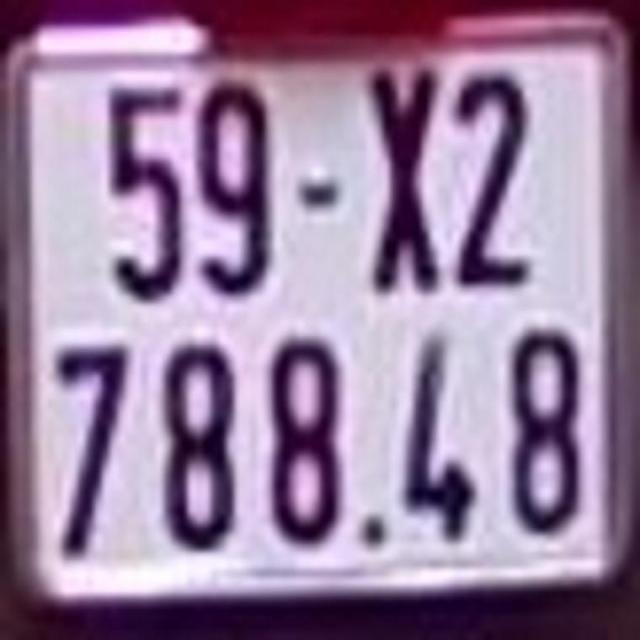2: (452, 69, 538, 288)
4: (400, 326, 483, 548)
5: (106, 82, 184, 304)
7: (52, 338, 131, 553)
8: (266, 328, 351, 545), (160, 344, 243, 550), (508, 322, 584, 537)
9: (194, 82, 273, 289)
X: (371, 62, 444, 290)
